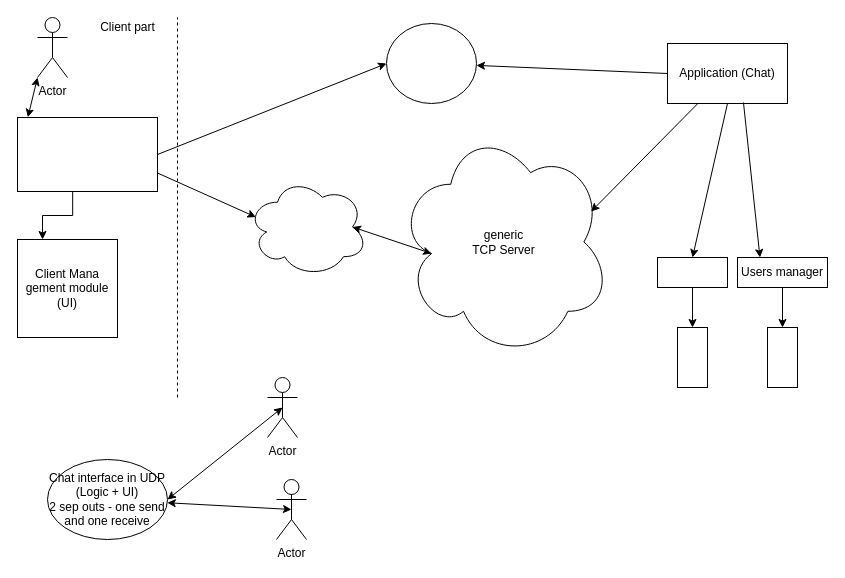
This 845x578 diagram has some shape labels left out. Each missing label, with the centre of its shape:
"Client Mana gement module (Logic)" goes at [87,154].
"generic TCP Client connection management module" goes at [307,226].
"Group manager" goes at [692,272].
"Messages protocol parser module" goes at [431,63].
